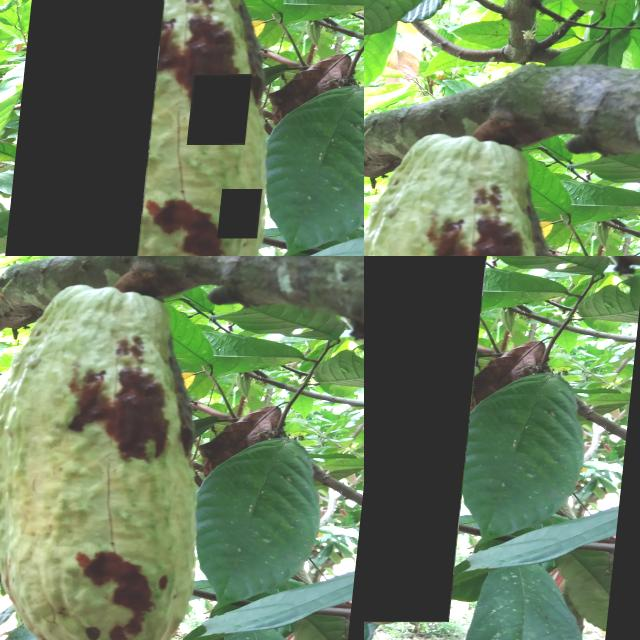Fitoftora: (364, 256, 494, 622), (15, 0, 170, 256)
Sana: (195, 74, 259, 145), (228, 189, 272, 238)
